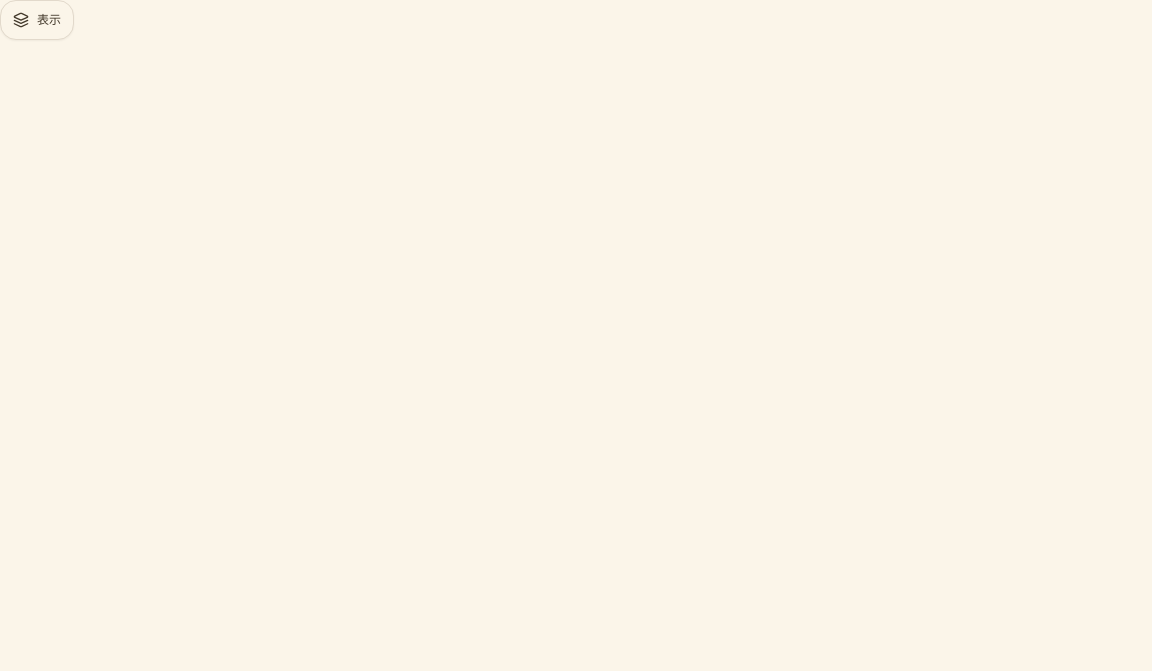
Test: MapStyleSelector › opens grouped display content on mobile
This screenshot has width=1152, height=671.
Expected: the text "表示する情報" is not shown
Click the button "表示": (37, 20) top-left (0, 0), bottom-right (74, 40)
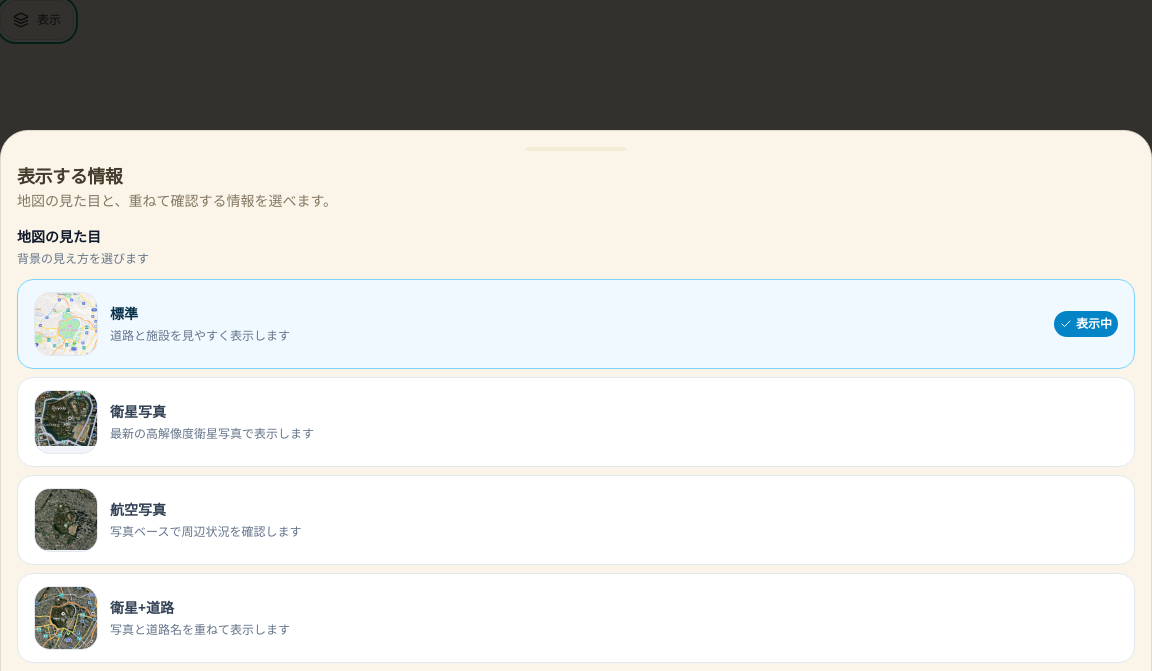
Expected: the heading "表示する情報" is shown, top-left (17, 163), bottom-right (122, 187)
Expected: the heading "地図の見た目" is shown, top-left (17, 226), bottom-right (101, 245)
Expected: the text "表示中" is shown, top-left (1054, 310), bottom-right (1118, 336)
